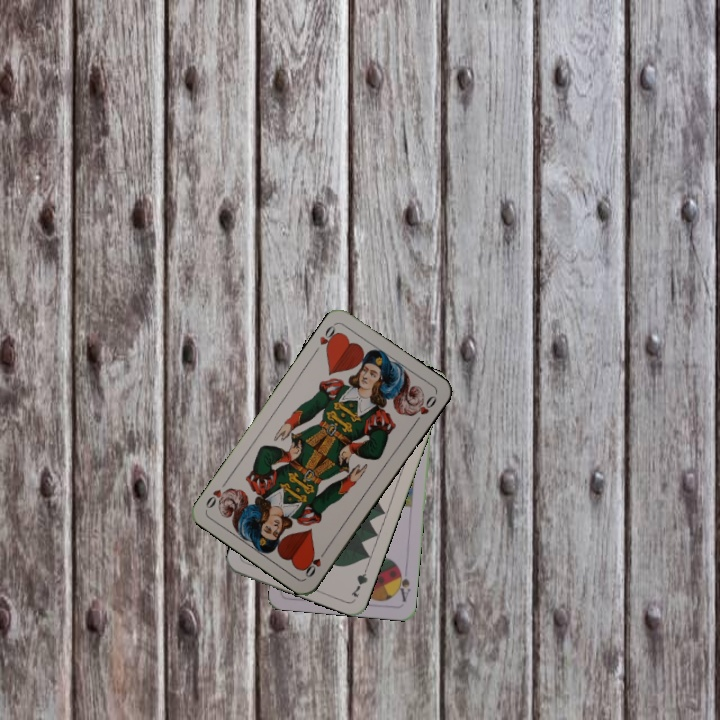G7: (347, 561, 371, 600)
HO: (300, 545, 329, 580), (315, 320, 342, 354)
SA: (393, 564, 413, 604)
